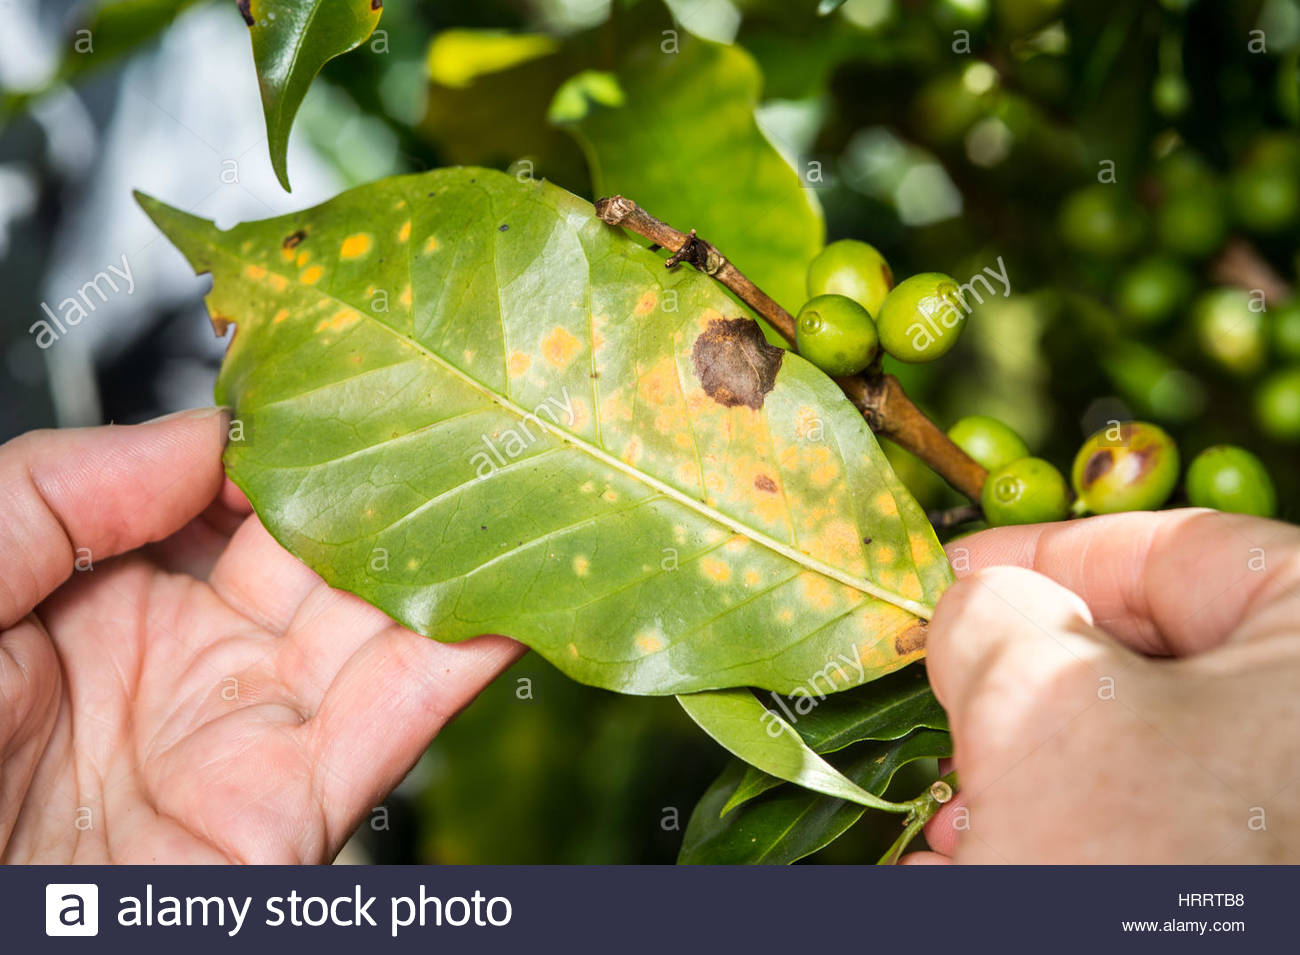roya: (230, 254, 938, 664)
